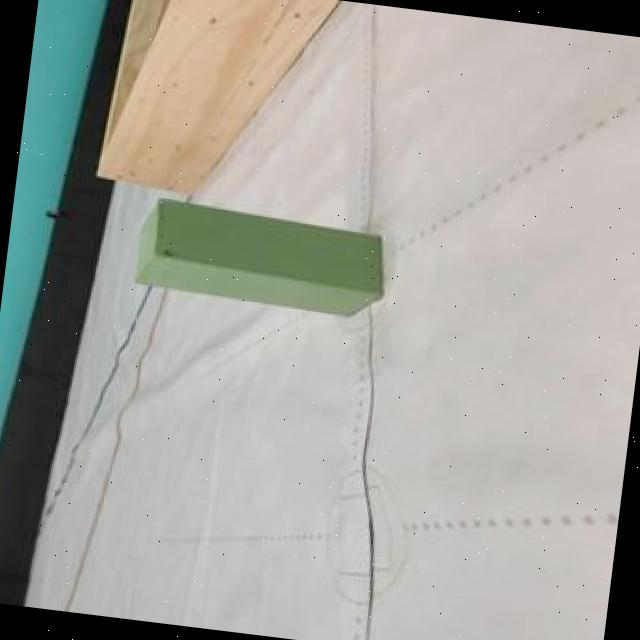greenbox: (126, 192, 392, 322)
